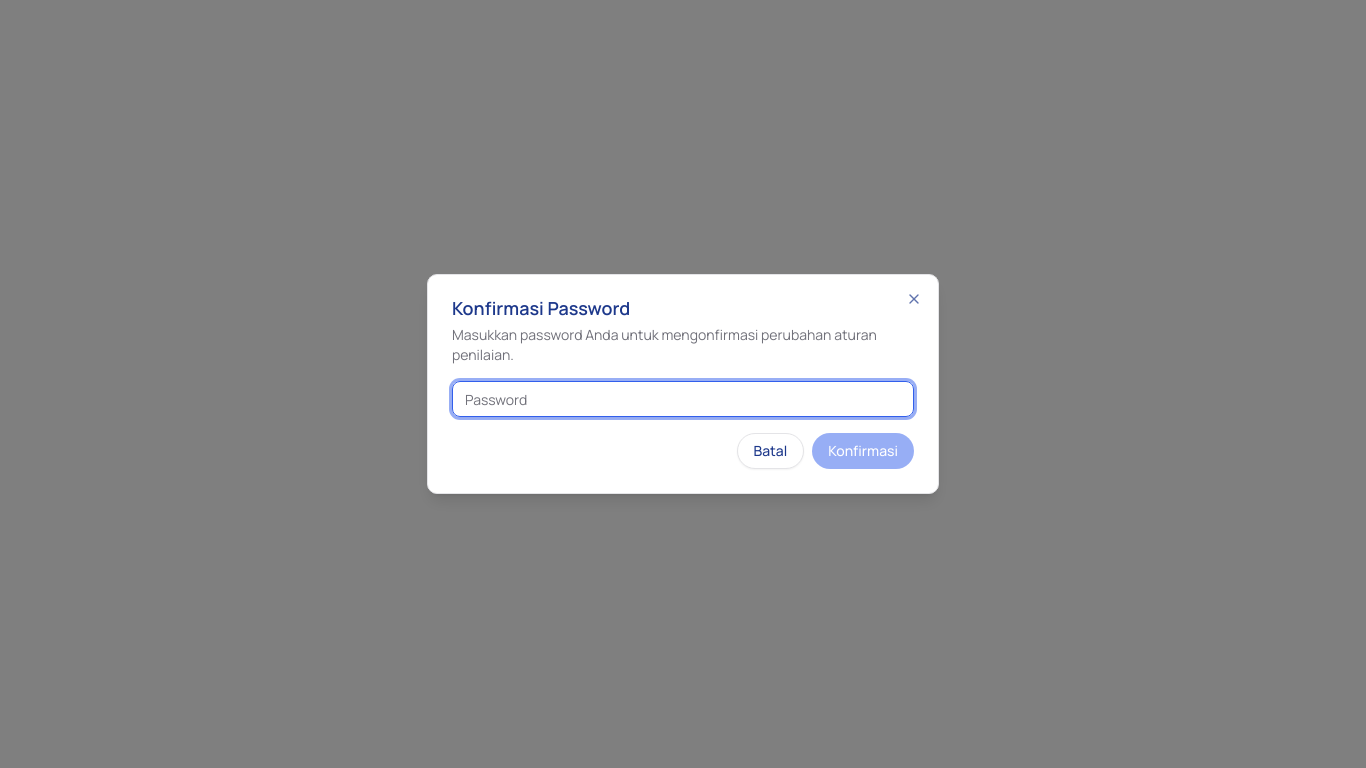
Test: PasswordConfirmDialog › Confirm button enabled when password is entered
The width and height of the screenshot is (1366, 768).
Type "mypassword" into the password field labelled "Password".
click(683, 399); type("mypassword")  # box [452,381,914,417]
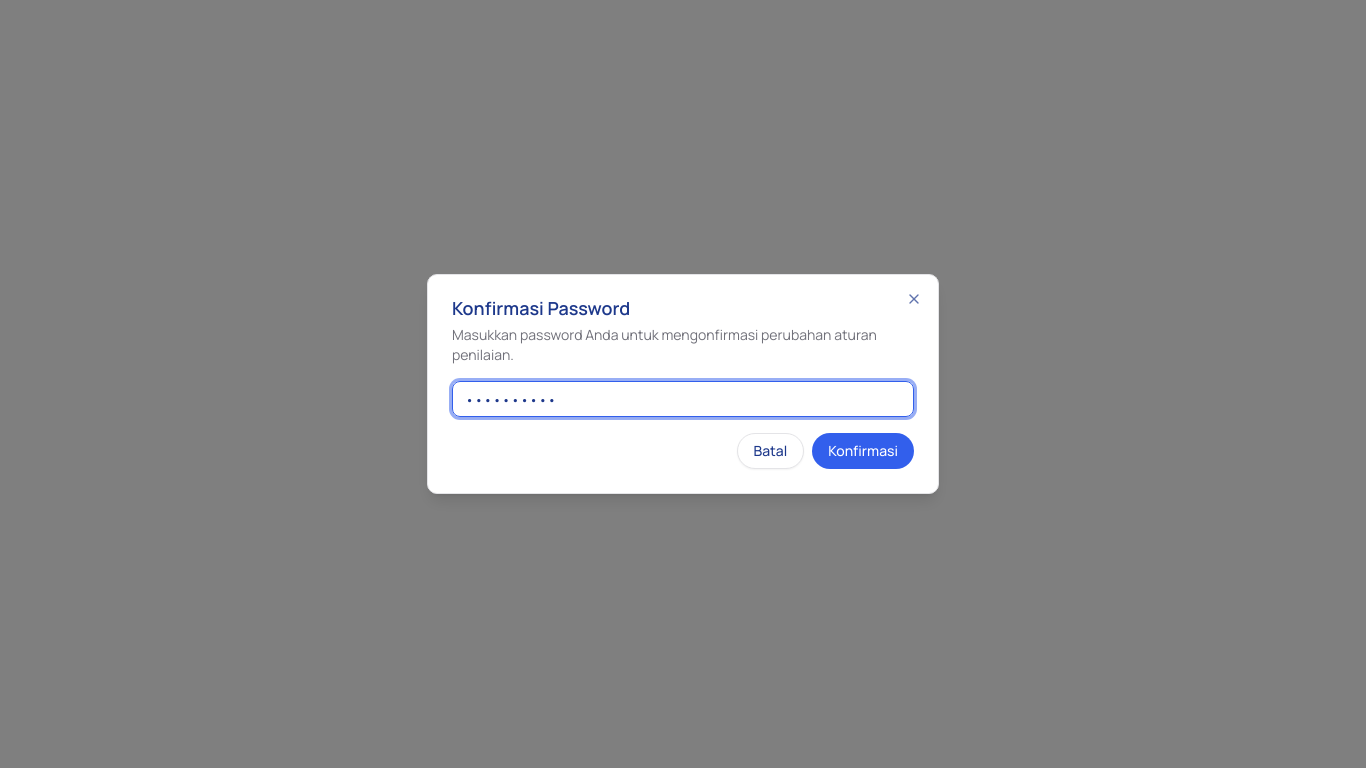
Expected: the button "Konfirmasi" is enabled, [812,433,914,469]
